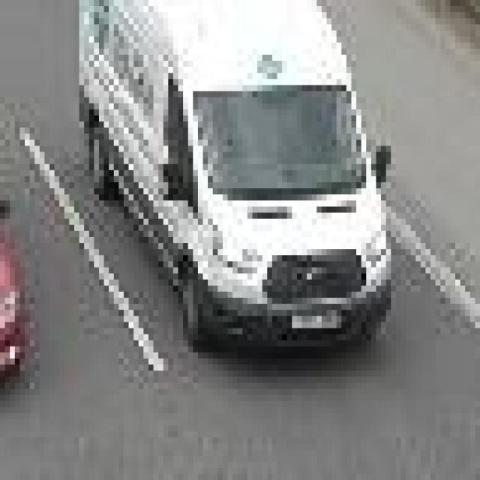van: (76, 0, 388, 352)
